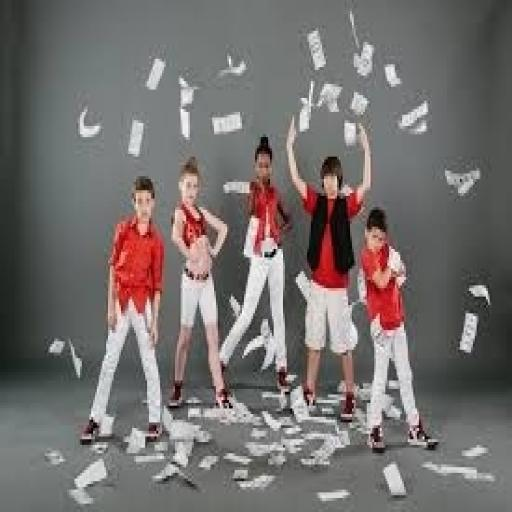dancing: (283, 112, 374, 425), (78, 174, 171, 448), (166, 154, 234, 414)
